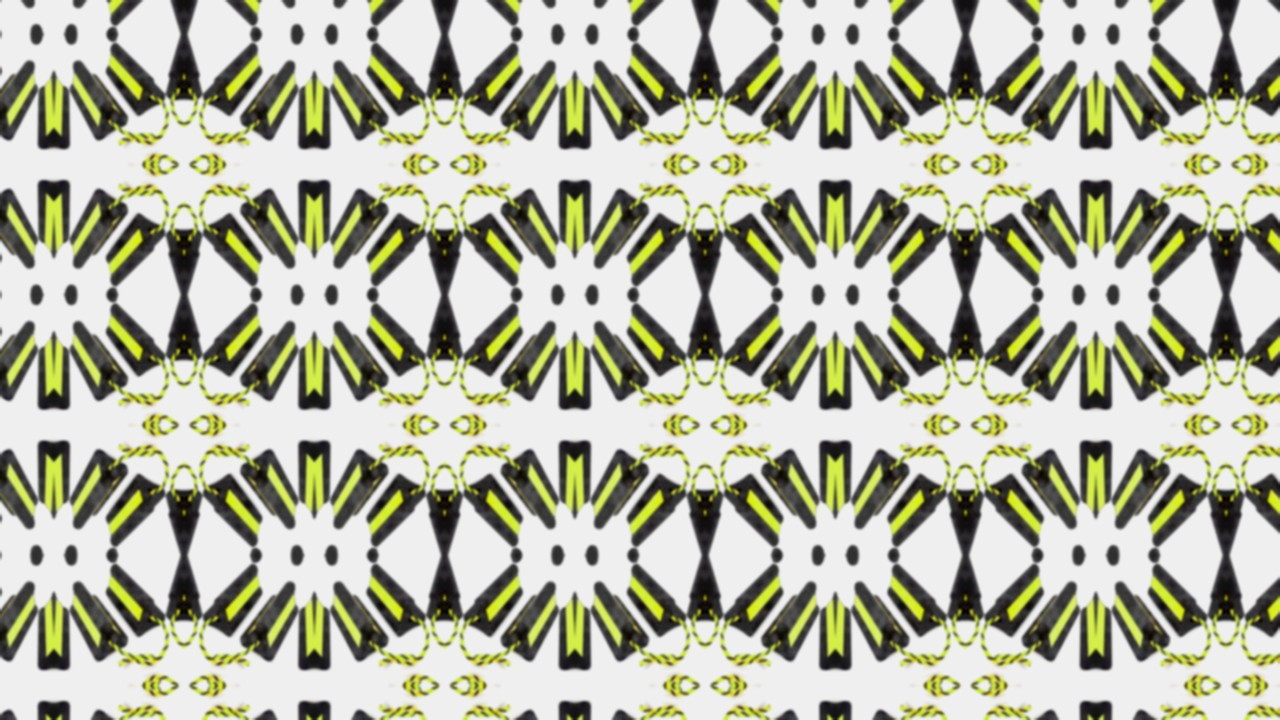chock: (235, 51, 305, 145), (496, 51, 566, 145), (757, 51, 827, 145), (1018, 51, 1088, 145), (235, 184, 305, 278), (496, 184, 566, 278), (757, 184, 827, 278), (1018, 184, 1088, 278), (235, 312, 305, 406), (496, 312, 566, 406), (757, 312, 827, 406), (1018, 312, 1088, 406), (235, 445, 305, 539), (496, 445, 566, 539), (757, 445, 827, 539), (1018, 445, 1088, 539), (235, 573, 305, 667), (496, 573, 566, 667), (757, 573, 827, 667), (1018, 573, 1088, 667), (62, 51, 131, 145), (323, 51, 392, 145), (584, 51, 653, 145), (845, 51, 914, 145), (1106, 51, 1175, 145), (62, 184, 131, 278), (323, 184, 392, 278), (584, 184, 653, 278), (845, 184, 914, 278), (1106, 184, 1175, 278), (62, 312, 131, 406), (323, 312, 392, 406), (584, 312, 653, 406), (845, 312, 914, 406), (1106, 312, 1175, 406), (62, 445, 131, 539), (323, 445, 392, 539), (584, 445, 653, 539), (845, 445, 914, 539), (1106, 445, 1175, 539), (62, 573, 131, 667), (323, 573, 392, 667), (584, 573, 653, 667), (845, 573, 914, 667), (1106, 573, 1175, 667), (198, 34, 269, 121), (459, 34, 530, 121), (720, 34, 791, 121), (981, 34, 1052, 121), (198, 208, 269, 295), (459, 208, 530, 295), (720, 208, 791, 295), (981, 208, 1052, 295), (198, 295, 269, 382), (459, 295, 530, 382), (720, 295, 791, 382), (981, 295, 1052, 382), (198, 469, 269, 556), (459, 469, 530, 556), (720, 469, 791, 556), (981, 469, 1052, 556), (198, 556, 269, 643), (459, 556, 530, 643), (720, 556, 791, 643), (981, 556, 1052, 643), (98, 34, 168, 121), (359, 34, 429, 121), (620, 34, 690, 121), (881, 34, 951, 121), (1142, 34, 1212, 121), (98, 208, 168, 295), (359, 208, 429, 295), (620, 208, 690, 295), (881, 208, 951, 295), (1142, 208, 1212, 295), (98, 295, 168, 382), (359, 295, 429, 382), (620, 295, 690, 382), (881, 295, 951, 382), (1142, 295, 1212, 382), (98, 469, 168, 556), (359, 469, 429, 556), (620, 469, 690, 556), (881, 469, 951, 556), (1142, 469, 1212, 556), (98, 556, 168, 643), (359, 556, 429, 643), (620, 556, 690, 643), (881, 556, 951, 643), (1142, 556, 1212, 643), (0, 51, 44, 145), (0, 184, 44, 278), (0, 312, 44, 406), (0, 445, 44, 539), (0, 573, 44, 667), (1242, 34, 1280, 121), (1242, 208, 1280, 295), (1242, 295, 1280, 382), (1242, 469, 1280, 556), (1242, 556, 1280, 643), (24, 63, 53, 157), (53, 63, 82, 157), (285, 63, 314, 157), (314, 63, 343, 157), (546, 63, 575, 157), (575, 63, 604, 157), (807, 63, 836, 157), (836, 63, 865, 157), (1068, 63, 1097, 157), (1097, 63, 1126, 157), (24, 171, 53, 265), (53, 171, 82, 265), (285, 171, 314, 265), (314, 171, 343, 265), (546, 171, 575, 265), (575, 171, 604, 265), (807, 171, 836, 265), (836, 171, 865, 265), (1068, 171, 1097, 265), (1097, 171, 1126, 265), (24, 324, 53, 418), (53, 324, 82, 418), (285, 324, 314, 418), (314, 324, 343, 418), (546, 324, 575, 418), (575, 324, 604, 418), (807, 324, 836, 418), (836, 324, 865, 418), (1068, 324, 1097, 418), (1097, 324, 1126, 418), (24, 432, 53, 526), (53, 432, 82, 526), (285, 432, 314, 526), (314, 432, 343, 526), (546, 432, 575, 526), (575, 432, 604, 526), (807, 432, 836, 526), (836, 432, 865, 526), (1068, 432, 1097, 526), (1097, 432, 1126, 526), (24, 585, 53, 679), (53, 585, 82, 679), (285, 585, 314, 679), (314, 585, 343, 679), (546, 585, 575, 679), (575, 585, 604, 679), (807, 585, 836, 679), (836, 585, 865, 679), (1068, 585, 1097, 679), (1097, 585, 1126, 679), (183, 34, 218, 108), (444, 34, 479, 108), (705, 34, 740, 108), (966, 34, 1001, 108), (1227, 34, 1262, 108), (183, 221, 218, 295), (444, 221, 479, 295), (705, 221, 740, 295), (966, 221, 1001, 295), (1227, 221, 1262, 295), (183, 295, 218, 369), (444, 295, 479, 369), (705, 295, 740, 369), (966, 295, 1001, 369), (1227, 295, 1262, 369), (183, 482, 218, 556), (444, 482, 479, 556), (705, 482, 740, 556), (966, 482, 1001, 556), (1227, 482, 1262, 556), (183, 556, 218, 630), (444, 556, 479, 630), (705, 556, 740, 630), (966, 556, 1001, 630), (1227, 556, 1262, 630), (149, 34, 183, 108), (410, 34, 444, 108), (671, 34, 705, 108), (932, 34, 966, 108), (1193, 34, 1227, 108), (149, 221, 183, 295), (410, 221, 444, 295), (671, 221, 705, 295), (932, 221, 966, 295), (1193, 221, 1227, 295), (149, 295, 183, 369), (410, 295, 444, 369), (671, 295, 705, 369), (932, 295, 966, 369), (1193, 295, 1227, 369), (149, 482, 183, 556), (410, 482, 444, 556), (671, 482, 705, 556), (932, 482, 966, 556), (1193, 482, 1227, 556), (149, 556, 183, 630), (410, 556, 444, 630), (671, 556, 705, 630), (932, 556, 966, 630), (1193, 556, 1227, 630), (198, 0, 269, 34), (459, 0, 530, 34), (720, 0, 791, 34), (981, 0, 1052, 34), (98, 0, 168, 34), (359, 0, 429, 34), (620, 0, 690, 34), (881, 0, 951, 34), (1142, 0, 1212, 34), (1242, 0, 1280, 34), (235, 0, 305, 17), (183, 0, 218, 34), (496, 0, 566, 17), (444, 0, 479, 34), (757, 0, 827, 17), (705, 0, 740, 34), (1018, 0, 1088, 17), (966, 0, 1001, 34), (1227, 0, 1262, 34), (62, 0, 131, 17), (323, 0, 392, 17), (584, 0, 653, 17), (845, 0, 914, 17), (1106, 0, 1175, 17), (149, 0, 183, 34), (410, 0, 444, 34), (671, 0, 705, 34), (932, 0, 966, 34), (1193, 0, 1227, 34), (235, 706, 305, 720), (496, 706, 566, 720), (757, 706, 827, 720), (1018, 706, 1088, 720), (62, 706, 131, 720), (323, 706, 392, 720), (584, 706, 653, 720), (845, 706, 914, 720), (1106, 706, 1175, 720), (24, 693, 53, 720), (53, 693, 82, 720), (285, 693, 314, 720), (314, 693, 343, 720), (546, 693, 575, 720), (575, 693, 604, 720), (807, 693, 836, 720), (836, 693, 865, 720), (1068, 693, 1097, 720), (1097, 693, 1126, 720), (0, 0, 44, 17), (0, 34, 8, 121), (0, 208, 8, 295), (0, 295, 8, 382), (0, 469, 8, 556), (0, 556, 8, 643), (0, 706, 44, 720)
